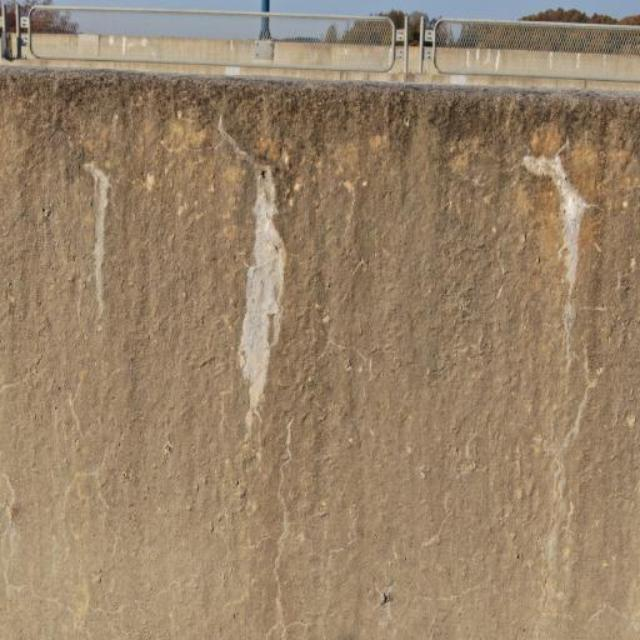D01: (242, 170, 284, 425), (522, 150, 589, 297), (86, 162, 108, 309)
